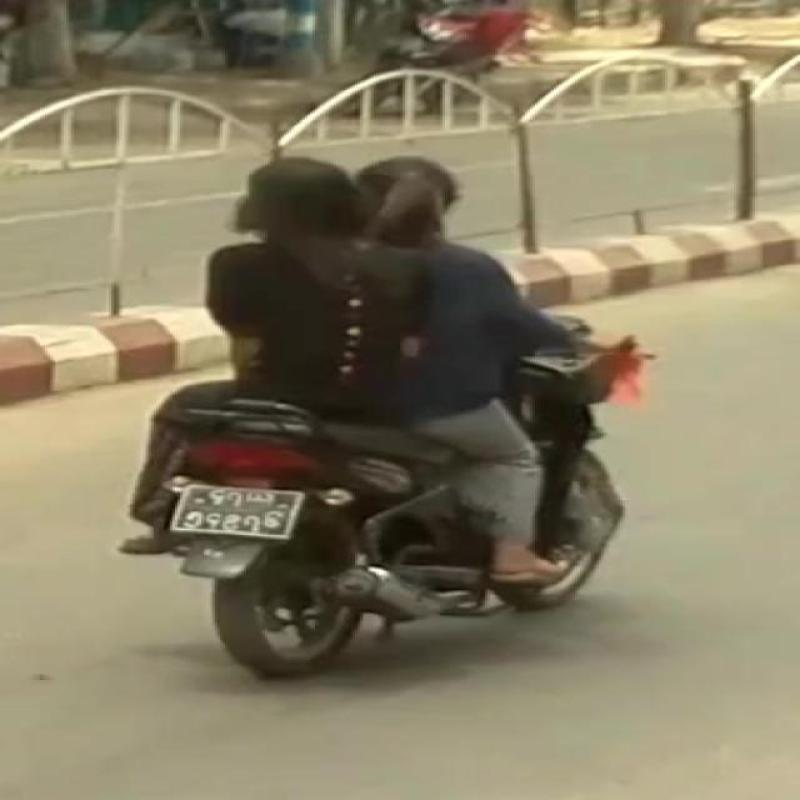nohelmet: (208, 146, 388, 248)
